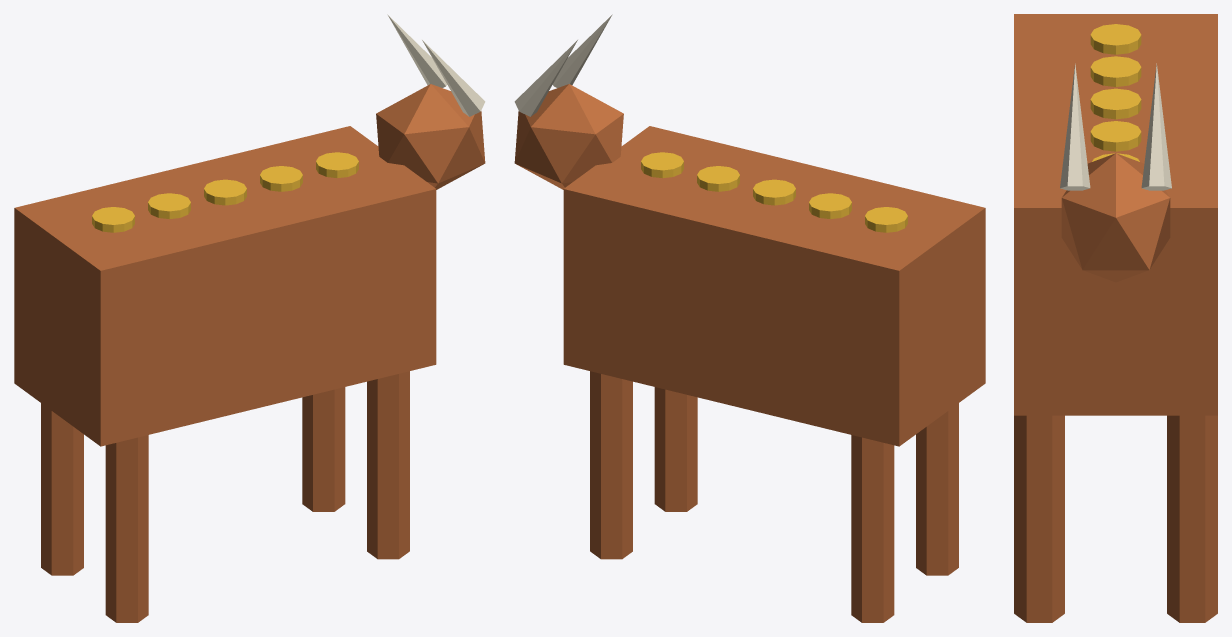
File: Mob_OR_CoinbackGoat_02.glb
3 renders of one model, left to right at view 1: azimuth 30°, elevation 25°; view 2: azimuth 150°, elevation 25°; view 3: azimuth 270°, elevation 25°, orthographic. The views are drawn at different scales.
Parts seen in each view (by area): view 1: Mob_OR_CoinbackGoat_02; view 2: Mob_OR_CoinbackGoat_02; view 3: Mob_OR_CoinbackGoat_02.
Boxes of the visible parts, x1,y1,x2,y2 form: Mob_OR_CoinbackGoat_02: (14, 14, 485, 622); Mob_OR_CoinbackGoat_02: (514, 14, 985, 622); Mob_OR_CoinbackGoat_02: (1014, 14, 1217, 622).
Bounding box in the file's own units: 1.13 × 1.25 × 0.4.
